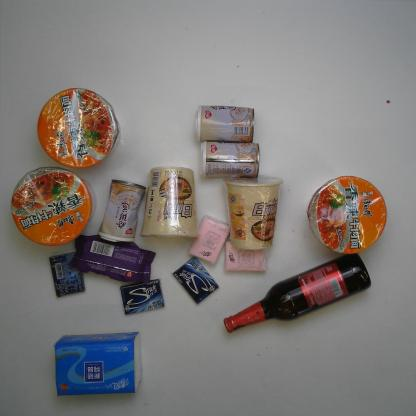Alcohol: (220, 250, 372, 336)
Canned Food: (97, 176, 147, 247), (193, 103, 256, 144), (198, 140, 260, 179)
Dessert: (67, 232, 158, 285)
Gum: (170, 254, 220, 306), (47, 250, 87, 300), (118, 278, 166, 316)
Instant Noodles: (34, 84, 124, 171), (8, 165, 98, 249), (305, 174, 390, 258), (220, 172, 284, 252), (138, 166, 202, 240)
Tissue: (51, 329, 146, 398), (187, 214, 232, 266), (222, 239, 268, 274)
